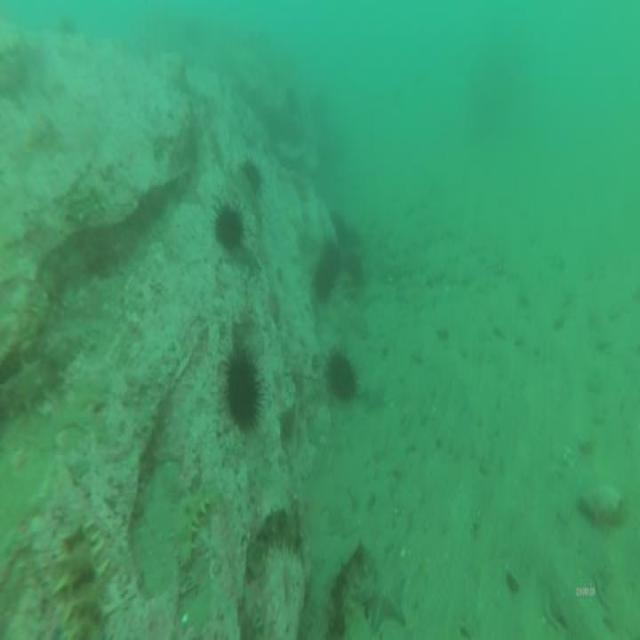echinus: (226, 348, 258, 433), (215, 202, 243, 245), (328, 356, 354, 400), (314, 262, 330, 300), (324, 238, 338, 272), (246, 158, 260, 186)
holothurian: (60, 529, 110, 640), (326, 544, 372, 634), (245, 508, 298, 578), (182, 479, 214, 572)
starfish: (357, 558, 407, 629)
